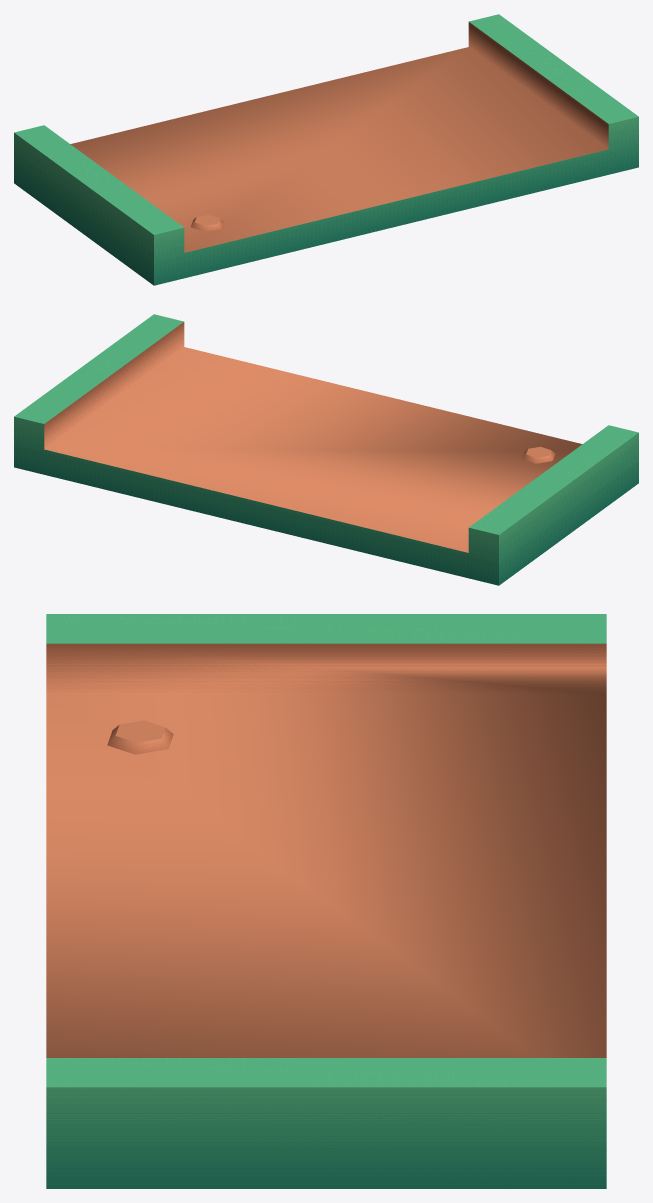
Rendered from tile-wide-straight.glb.
The picture shows the model from 3 angles, top to bottom: view 1: azimuth 30°, elevation 25°; view 2: azimuth 150°, elevation 25°; view 3: azimuth 270°, elevation 25°; orthographic projection. The views are drawn at different scales.
Visible parts, largest first — view 1: tile-wide-straight; view 2: tile-wide-straight; view 3: tile-wide-straight.
Boxes of the visible parts, x1,y1,x2,y2 form: tile-wide-straight: (14,14,638,285); tile-wide-straight: (14,314,638,585); tile-wide-straight: (46,614,606,1188).
Bounding box in the file's own units: 2 × 0.2 × 1.
Materials: 1 (1 with a texture image).
